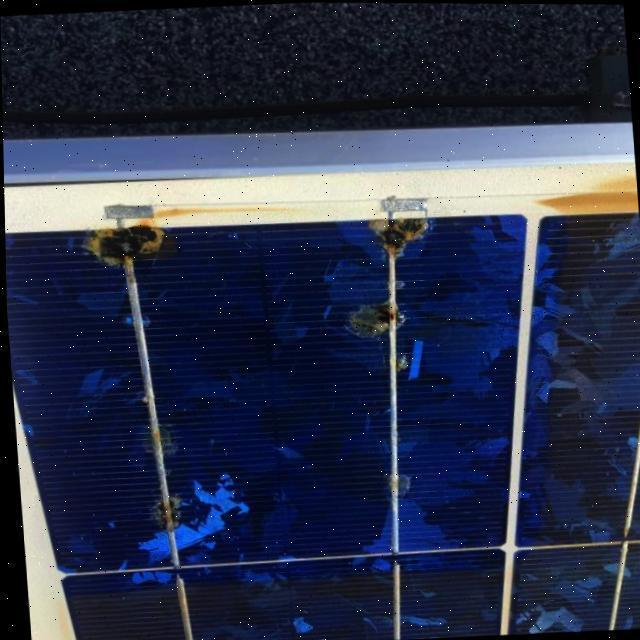Anomaly Solar Panel: (4, 202, 640, 640)
Structural Damage: (363, 197, 437, 265), (82, 222, 165, 270), (341, 299, 403, 344), (138, 420, 176, 462), (145, 499, 180, 532), (376, 468, 412, 499), (119, 312, 150, 332), (382, 352, 409, 373), (384, 275, 406, 292)
